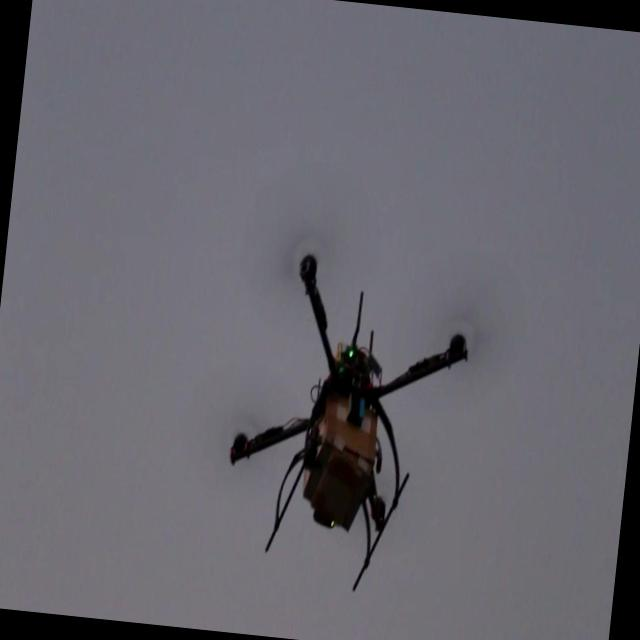drone: (213, 243, 478, 606)
